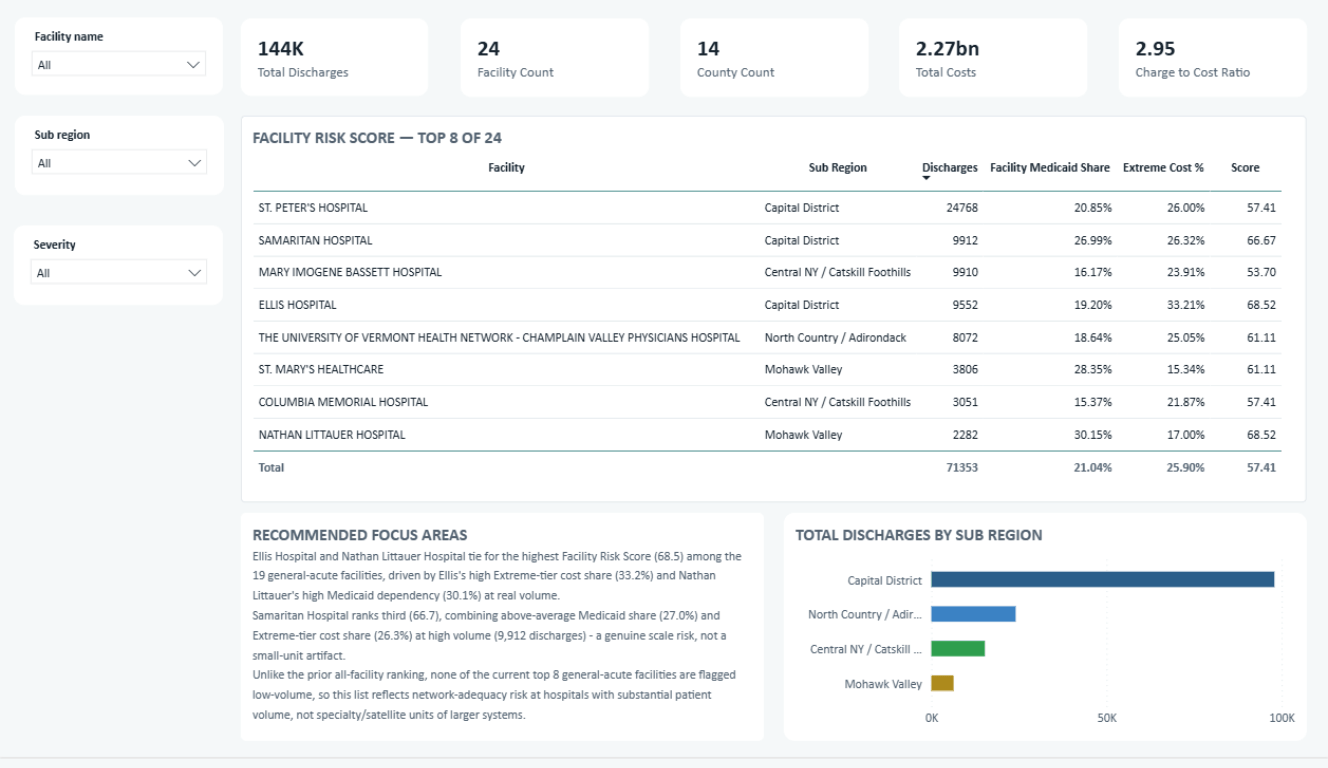

What the dashboard file says about the page in this screenshot:
{"tool":"powerbi","page":{"name":"Executive Summary","canvas":[1280,720],"ordinal":0},"visuals":[{"type":"slicer","title":"APR SEVERITY OF ILLNESS","fields":{"Values":["fact_discharges.apr_severity_of_illness"]},"box":[18.3,212.2,200,75.6],"z":0},{"type":"slicer","title":"SUB REGION","fields":{"Values":["dim_facility.sub_region"]},"box":[19.5,107.3,200,75.6],"z":1000},{"type":"slicer","title":"FACILITY NAME","fields":{"Values":["dim_facility.facility_name"]},"box":[19.5,13.4,198.8,74.4],"z":2000},{"type":"cardVisual","fields":{"Data":["_Measures.Total Costs"]},"box":[865.1,14.1,180,75],"z":3000},{"type":"barChart","title":"TOTAL DISCHARGES BY SUB REGION","fields":{"Category":["dim_facility.sub_region"],"Y":["_Measures.Total Discharges"]},"box":[754.9,486.6,500,218.3],"z":4000},{"type":"tableEx","title":"FACILITY RISK SCORE — TOP 8 OF 24","fields":{"Values":["dim_facility.facility_name","dim_facility.sub_region","_Measures.Total Discharges","_Measures.Facility Medicaid Share","_Measures.Facility Extreme Cost Share","_Measures.Facility Risk Score"]},"box":[235.4,107.1,1019.4,369.8],"z":5000},{"type":"textbox","box":[235.4,486.6,500,218.3],"z":6000},{"type":"cardVisual","fields":{"Data":["_Measures.Total Discharges"]},"box":[235.4,14.6,179.3,74.4],"z":7000},{"type":"cardVisual","fields":{"Data":["_Measures.Facility Count"]},"box":[445.7,14.1,180,75],"z":8000},{"type":"cardVisual","fields":{"Data":["_Measures.County Count"]},"box":[655.4,14.1,180,75],"z":9000},{"type":"cardVisual","fields":{"Data":["_Measures.Charge to Cost Ratio"]},"box":[1074.9,14.3,179.6,74.7],"z":10000}]}

Visuals, with their boxes in screenshot pixels (x1, y1, x2, y2), scaled from the page's 1280x720 canvas onto the 1328x768 screenshot:
"APR SEVERITY OF ILLNESS" slicer: [left=19, top=226, right=226, bottom=307]
"SUB REGION" slicer: [left=20, top=114, right=228, bottom=195]
"FACILITY NAME" slicer: [left=20, top=14, right=226, bottom=94]
cardVisual - _Measures.Total Costs: [left=898, top=15, right=1084, bottom=95]
"TOTAL DISCHARGES BY SUB REGION" barChart: [left=783, top=519, right=1302, bottom=752]
"FACILITY RISK SCORE — TOP 8 OF 24" tableEx: [left=244, top=114, right=1302, bottom=509]
textbox: [left=244, top=519, right=763, bottom=752]
cardVisual - _Measures.Total Discharges: [left=244, top=16, right=430, bottom=95]
cardVisual - _Measures.Facility Count: [left=462, top=15, right=649, bottom=95]
cardVisual - _Measures.County Count: [left=680, top=15, right=867, bottom=95]
cardVisual - _Measures.Charge to Cost Ratio: [left=1115, top=15, right=1302, bottom=95]
